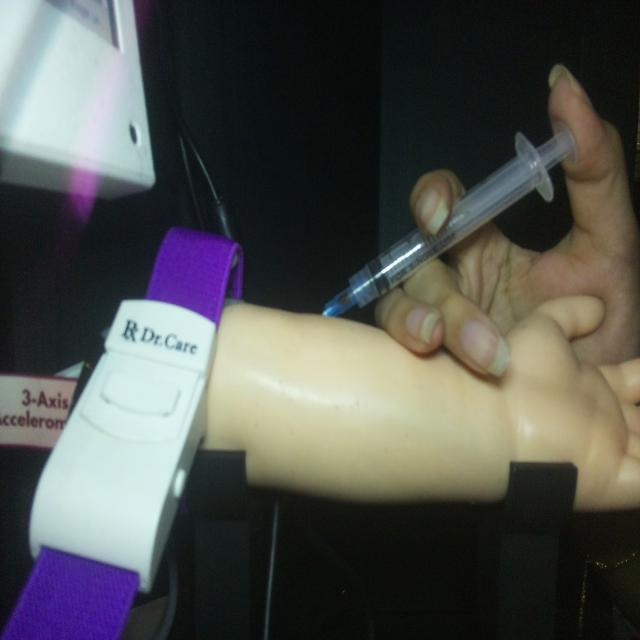26 degrees: (320, 120, 578, 320)
